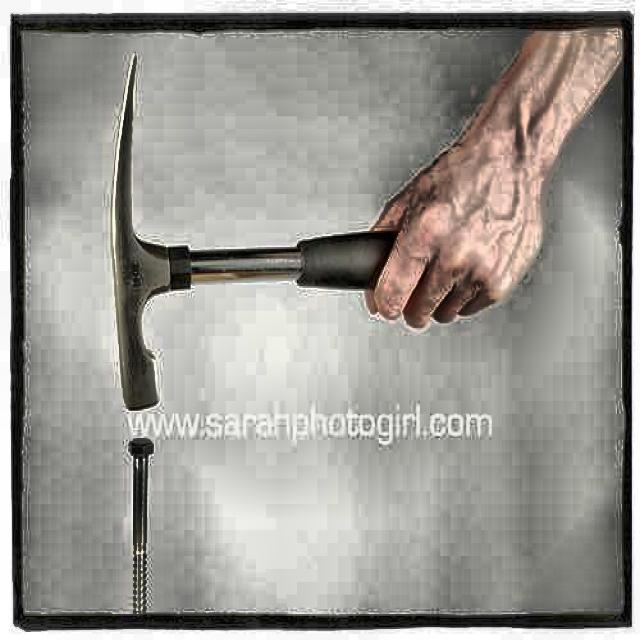hammer: (91, 49, 359, 415)
